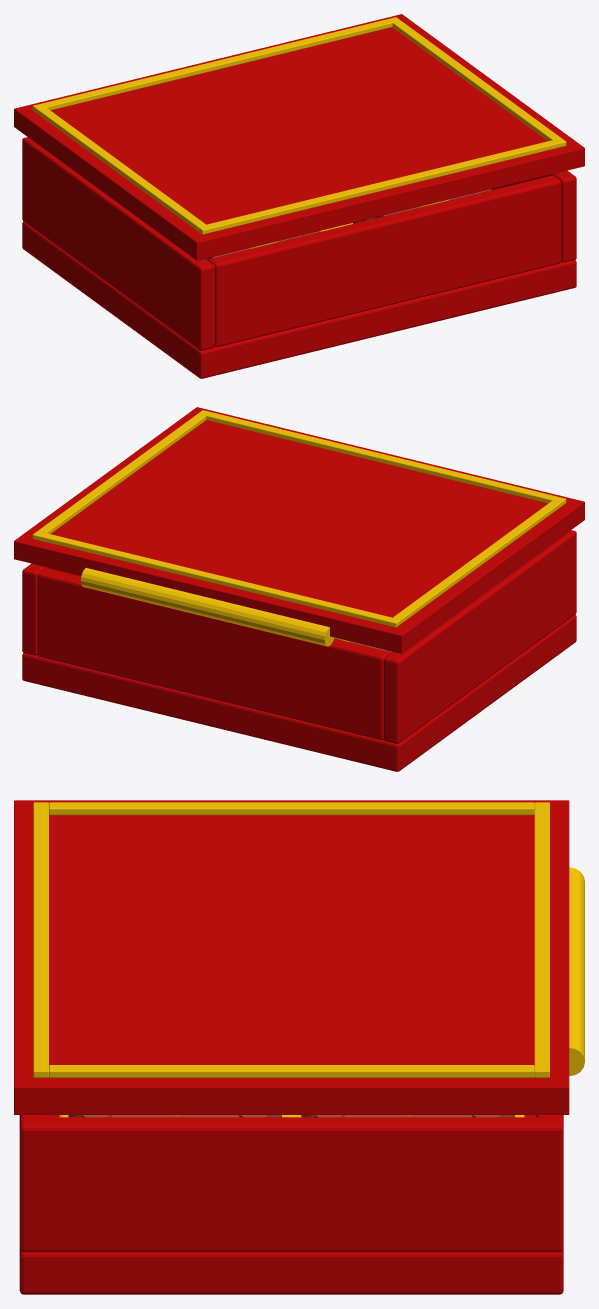
The model's file is mooncake-gift-box.glb.
3 renders of one model, top to bottom at view 1: azimuth 30°, elevation 25°; view 2: azimuth 150°, elevation 25°; view 3: azimuth 270°, elevation 25°, orthographic. The views are drawn at different scales.
Visible parts, largest first — view 1: Lid_Panel, End, Side, Box_Base, Gold_Trim.002, Gold_Trim.003, Gold_Trim, Gold_Trim.001, Side.001; view 2: Lid_Panel, End.001, Side, Box_Base, Hinge, Gold_Trim.003, Gold_Trim.002, Gold_Trim, Gold_Trim.001, Side.001; view 3: Lid_Panel, Side.001, Box_Base, Gold_Trim, Gold_Trim.001, Gold_Trim.002, Gold_Trim.003, Hinge.
Boxes of the visible parts, x1,y1,x2,y2 form: Lid_Panel: (14, 14, 584, 260); End: (208, 175, 561, 347); Side: (22, 137, 214, 350); Box_Base: (22, 221, 576, 378); Gold_Trim.002: (198, 138, 566, 234); Gold_Trim.003: (32, 17, 400, 113); Gold_Trim: (37, 107, 205, 230); Gold_Trim.001: (392, 21, 560, 140); Side.001: (491, 170, 576, 262); Lid_Panel: (14, 407, 584, 653); End.001: (37, 568, 390, 740); Side: (384, 530, 576, 743); Box_Base: (22, 614, 576, 771); Hinge: (80, 568, 334, 646); Gold_Trim.003: (32, 531, 400, 627); Gold_Trim.002: (198, 410, 566, 506); Gold_Trim: (393, 500, 561, 623); Gold_Trim.001: (38, 414, 206, 533); Side.001: (22, 563, 81, 655); Lid_Panel: (14, 800, 569, 1114); Side.001: (19, 1117, 563, 1252); Box_Base: (19, 1115, 563, 1294); Gold_Trim: (49, 802, 534, 815); Gold_Trim.001: (49, 1065, 534, 1077); Gold_Trim.002: (33, 802, 48, 1077); Gold_Trim.003: (534, 802, 549, 1077); Hinge: (569, 867, 584, 1075).
Size of the model in its own units: 0.35 by 0.125 by 0.294.
